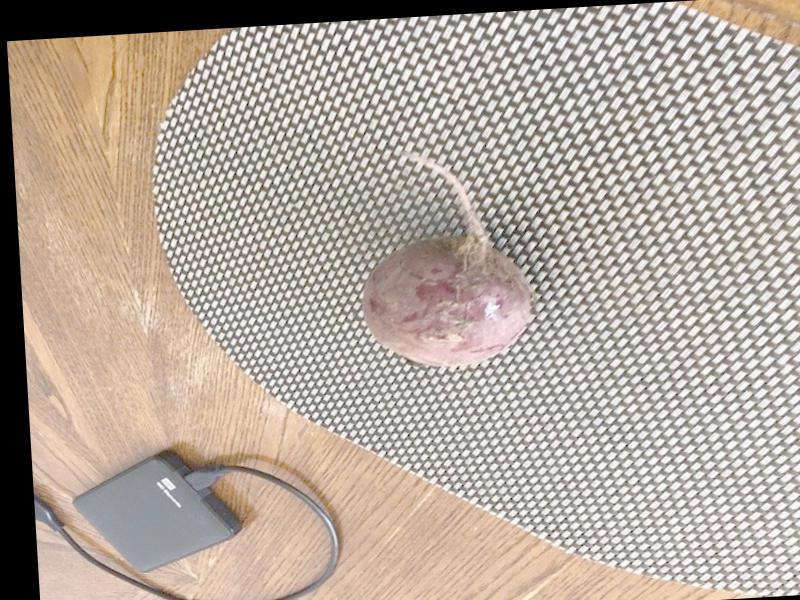Beet: (354, 143, 535, 370)
